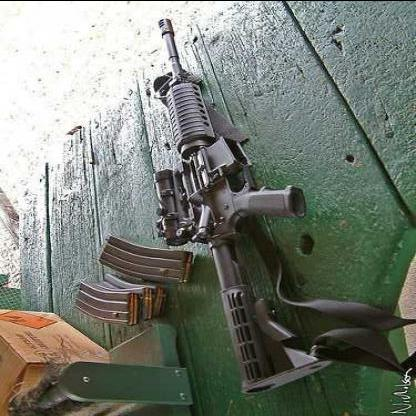rifle: (124, 1, 367, 403)
